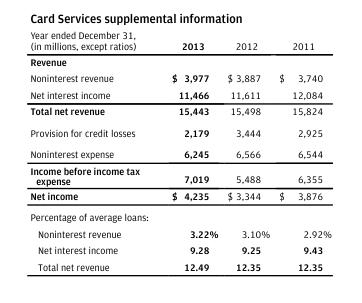table: (29, 28, 331, 271)
table column: (29, 28, 154, 271), (154, 28, 221, 271), (273, 28, 331, 271), (221, 28, 273, 271)
table column header: (29, 28, 331, 53)
table projected row header: (29, 205, 331, 224), (29, 53, 331, 69)
table row: (29, 161, 331, 187), (29, 28, 331, 53), (29, 121, 331, 142), (29, 102, 331, 121), (29, 142, 331, 161), (29, 205, 331, 224), (29, 187, 331, 205), (29, 85, 331, 102), (29, 224, 331, 241), (29, 53, 331, 69), (29, 69, 331, 85), (29, 241, 331, 257), (29, 257, 331, 271)
